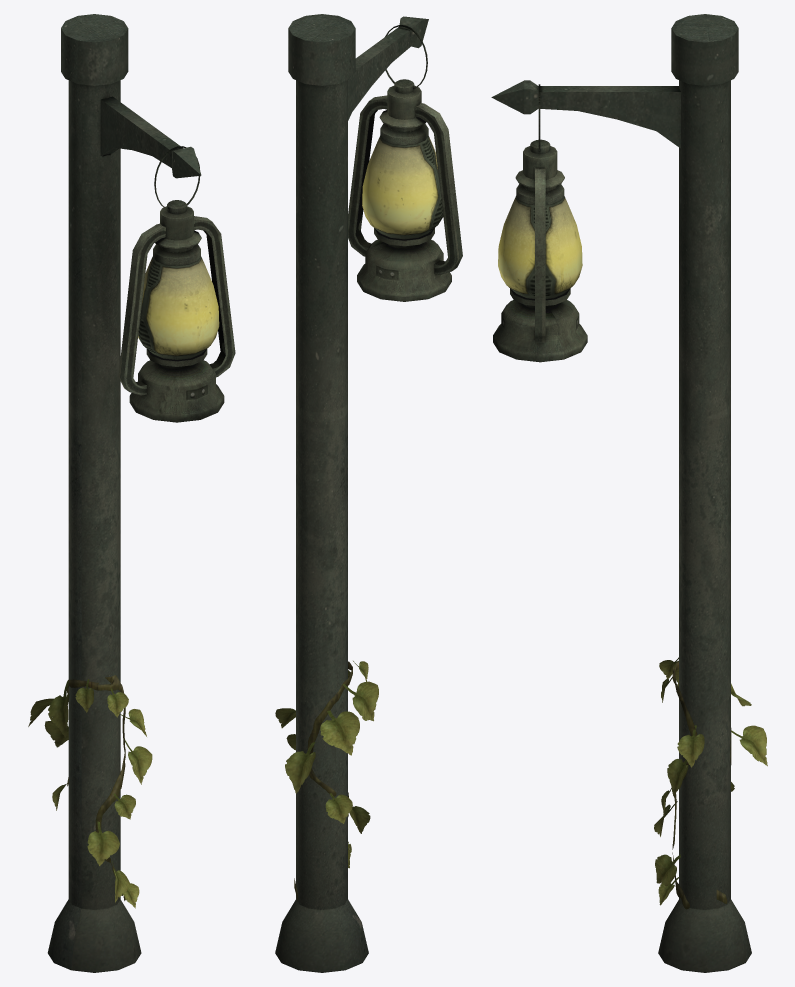
File: LampPost.dae
3 views of the same model, side by side, from view 1: azimuth 30°, elevation 25°; view 2: azimuth 150°, elevation 25°; view 3: azimuth 270°, elevation 25° (orthographic).
Visible parts, largest first — view 1: Lamp_Post; view 2: Lamp_Post; view 3: Lamp_Post.
Boxes of the visible parts, bbox=[...] form: Lamp_Post: bbox=[28, 14, 235, 972]; Lamp_Post: bbox=[275, 14, 462, 972]; Lamp_Post: bbox=[491, 14, 767, 972].
Size of the model in its own units: 0.3157 by 0.6403 by 2.26.
